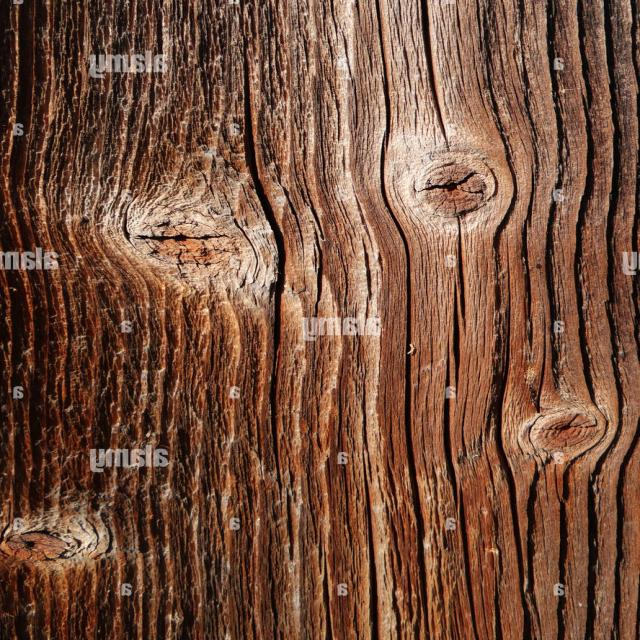have-wooden-eyes: (413, 150, 497, 217), (530, 410, 597, 449)
